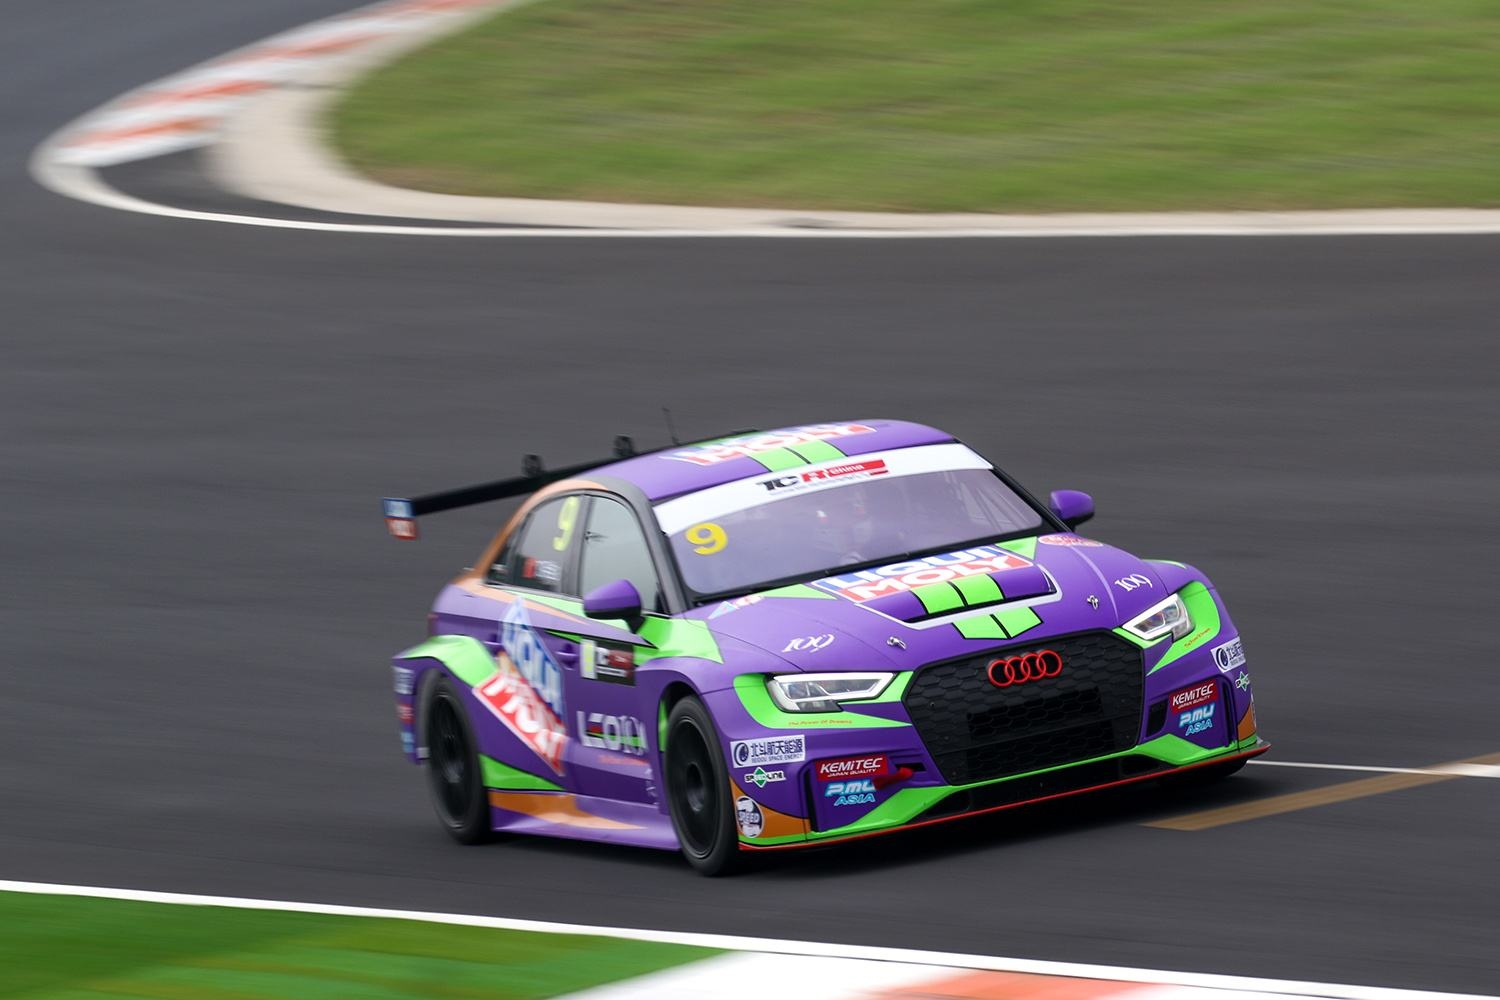racing car: (377, 414, 1283, 847)
